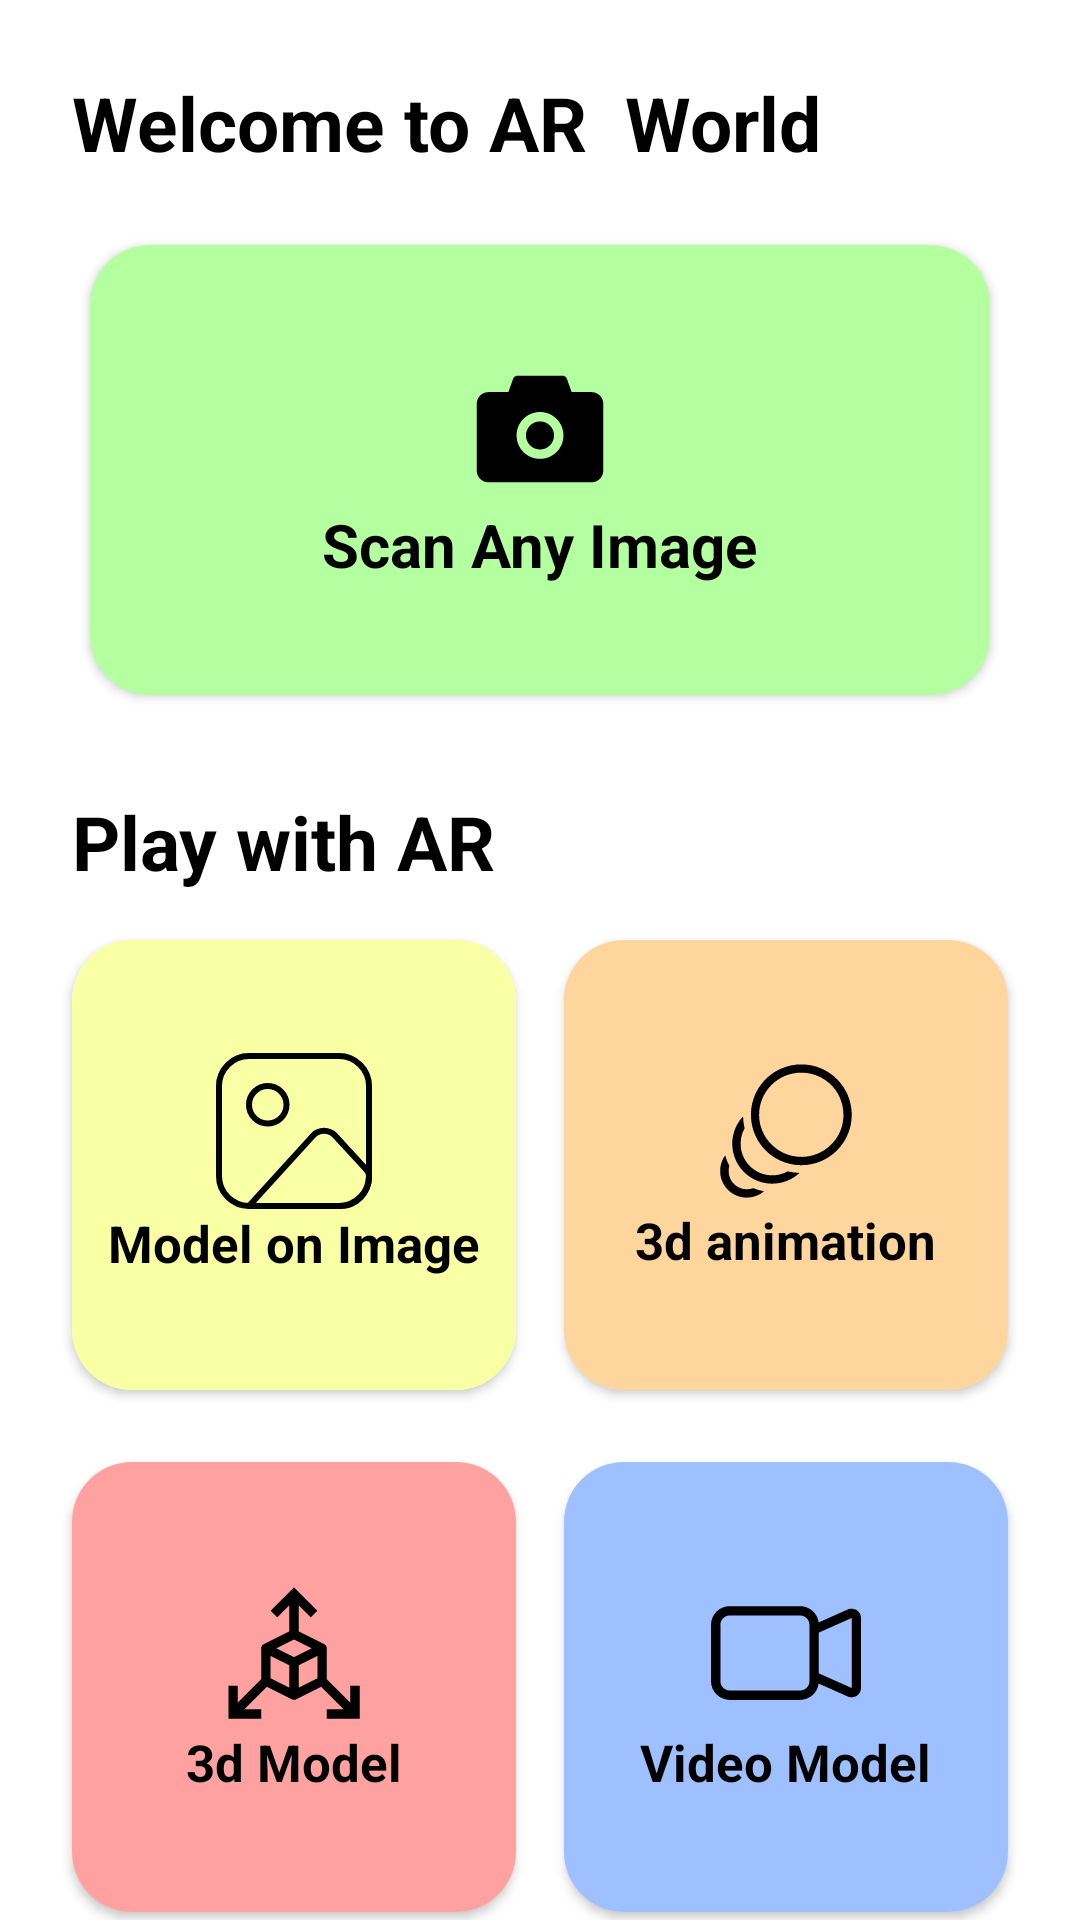

Named icons in this screenshot (1080px×1920px) and their bounding boxes, (x1, y1, x2, y2):
ant design camera: (476, 375, 604, 483)
